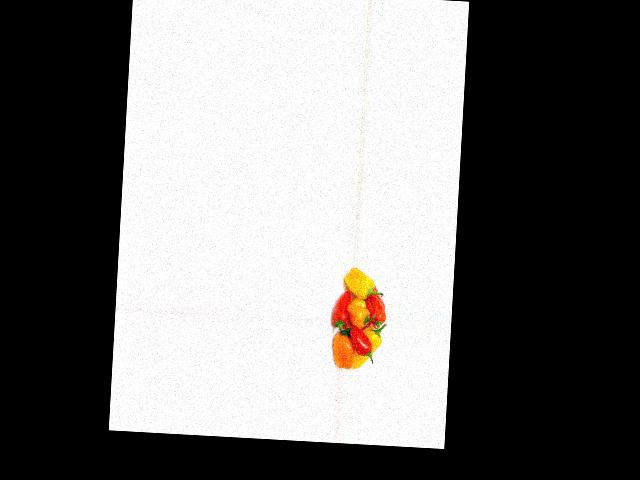bell_pepper: (351, 325, 385, 370)
